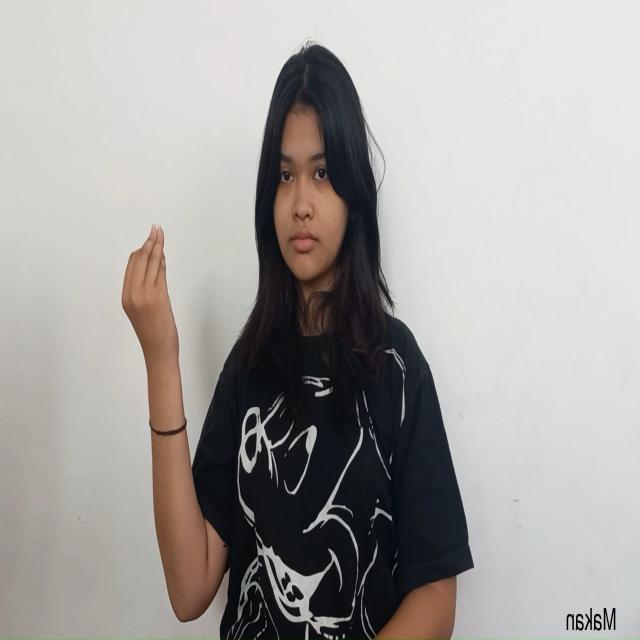Makan -BISINDO-: (121, 222, 181, 403)
